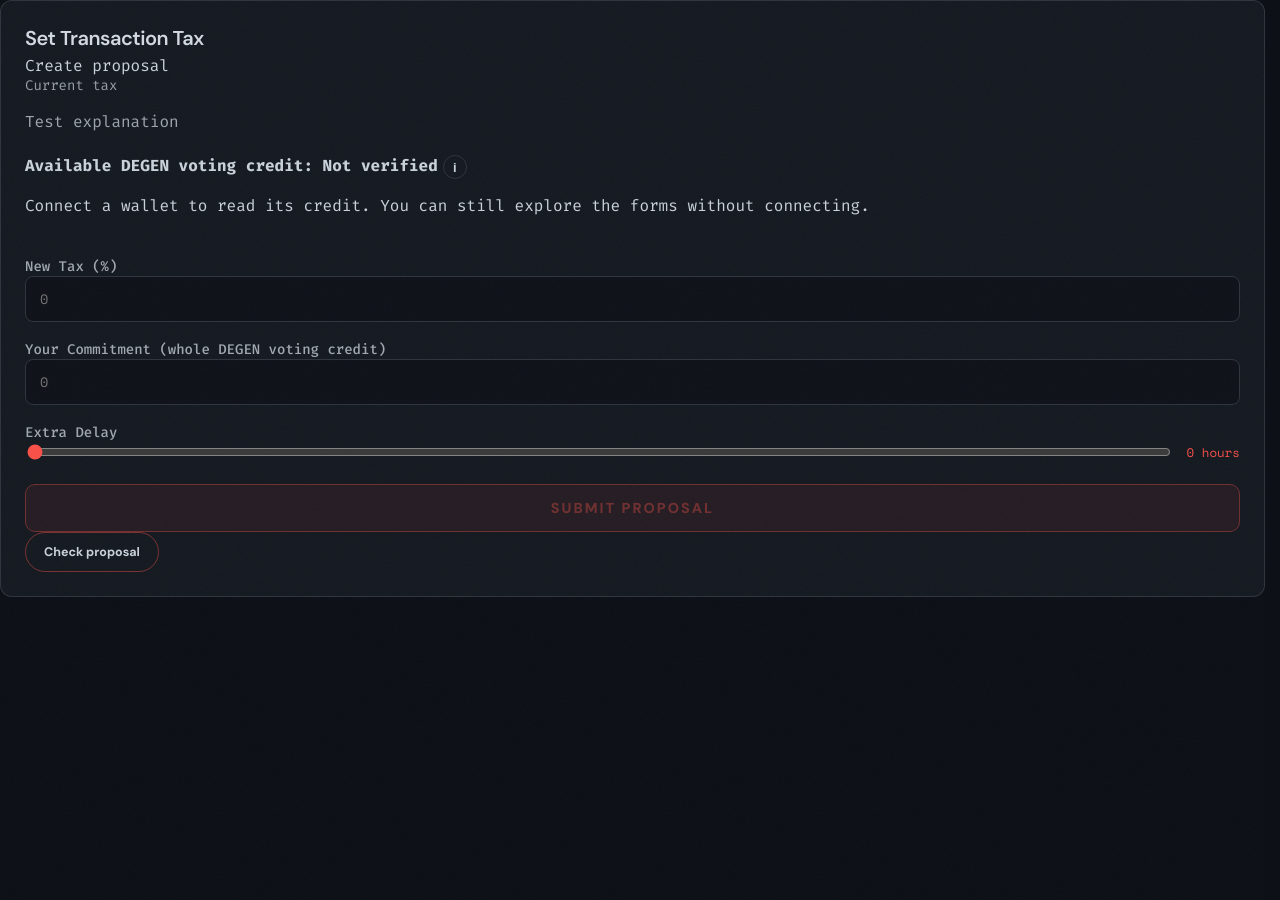
Test: governance composer safety › lets disconnected users explore without inventing a zero balance or opening a wallet
The image size is (1280, 900).
Click the button "Check proposal".
click(92, 552)  # box [25, 532, 159, 572]
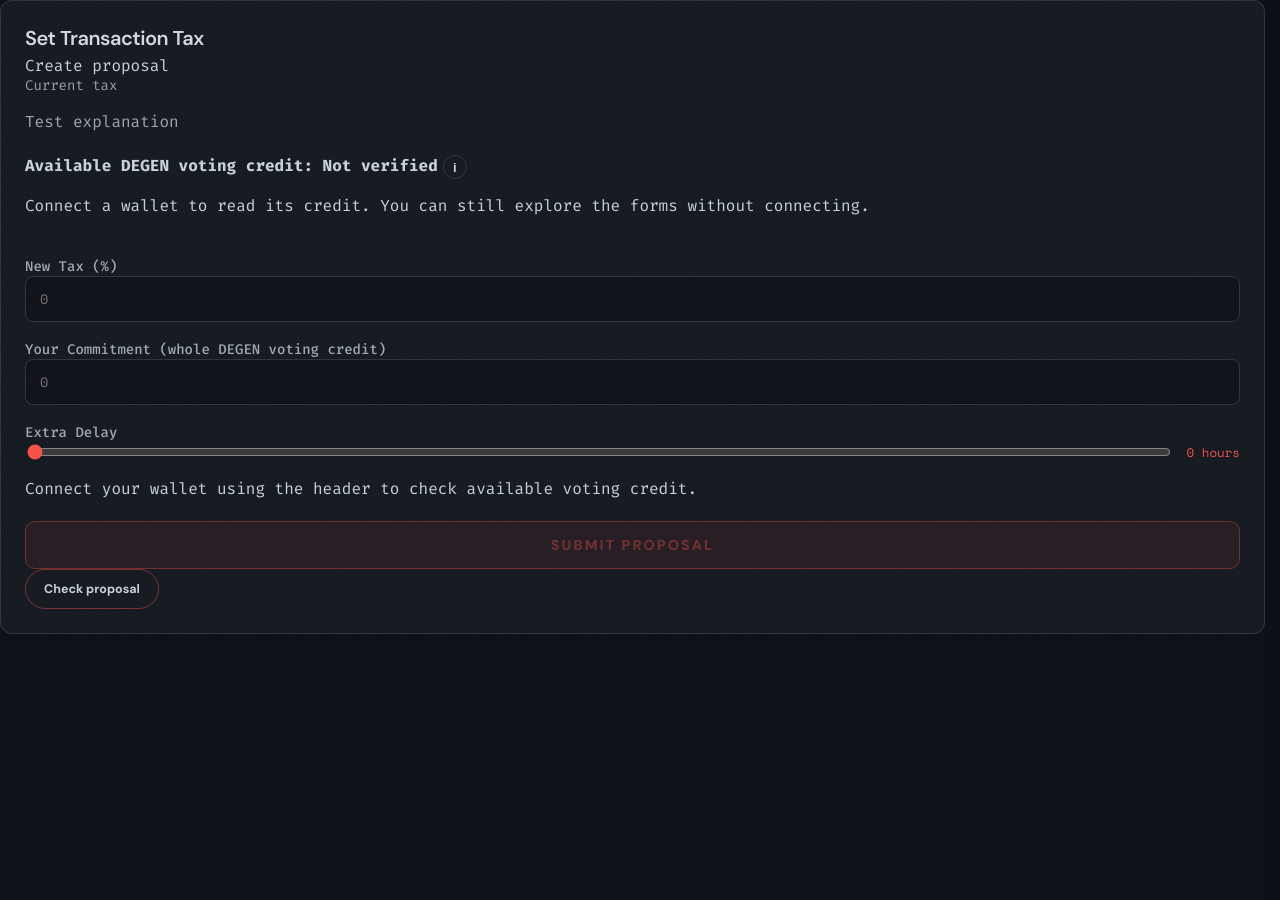
Check: the message shows "Connect your wallet", box [25, 478, 697, 499]
